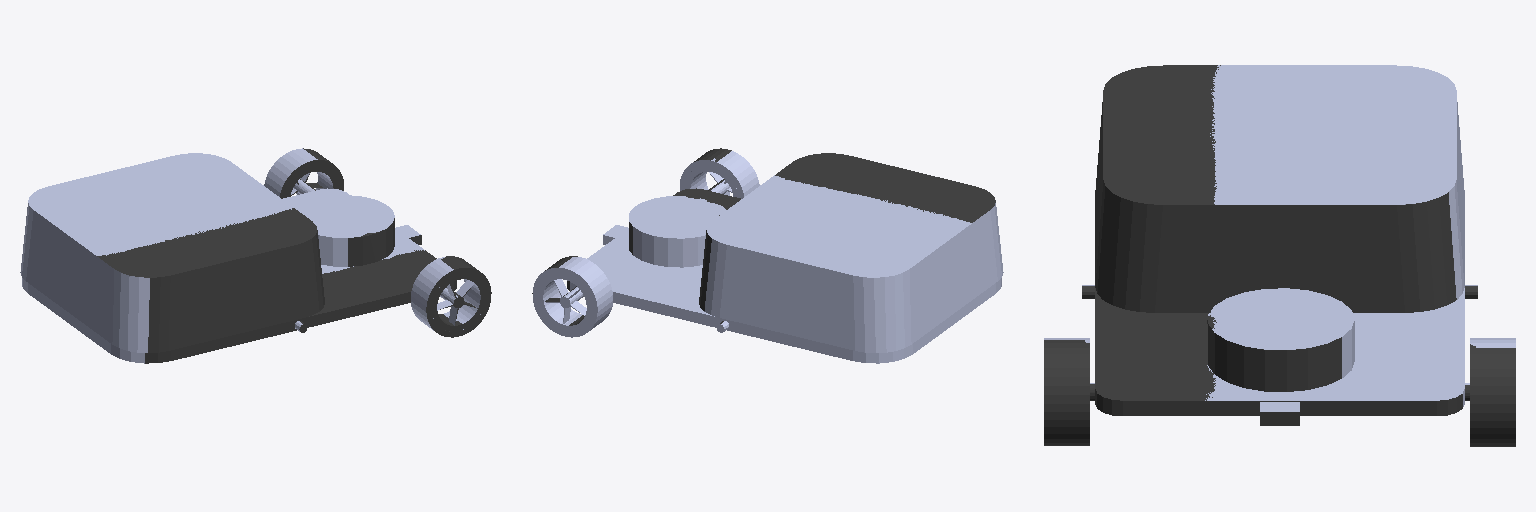
robot.urdf — bot:
<?xml version="1.0" encoding="utf-8"?>
<!-- This URDF was automatically created by SolidWorks to URDF Exporter! Originally created by [author] ([email redacted]) 
     Commit Version: 1.6.0-4-g7f85cfe  Build Version: 1.6.7995.38578
     For more information, please see http://wiki.ros.org/sw_urdf_exporter -->
<robot
  name="bot">
  <link
    name="base_link">
    <inertial>
      <origin
        xyz="-0.0129534441471153 0.00386031482322091 0.00281025296091891"
        rpy="0 0 0" />
      <mass
        value="3.12503659272934" />
      <inertia
        ixx="0.0101767092296574"
        ixy="-8.33475054187562E-06"
        ixz="-0.000407885130932817"
        iyy="0.0140735406214751"
        iyz="-1.47424116291273E-06"
        izz="0.022527596148681" />
    </inertial>
    <visual>
      <origin
        xyz="0 0 0"
        rpy="0 0 0" />
      <geometry>
        <mesh
          filename="package://bot/meshes/base_link.STL" />
      </geometry>
      <material
        name="">
        <color
          rgba="0.792156862745098 0.819607843137255 0.933333333333333 1" />
      </material>
    </visual>
    <collision>
      <origin
        xyz="0 0 0"
        rpy="0 0 0" />
      <geometry>
        <mesh
          filename="package://bot/meshes/base_link.STL" />
      </geometry>
    </collision>
  </link>
  <link
    name="leftwheel">
    <inertial>
      <origin
        xyz="0 -1.70696790036118E-15 0.24671810745511"
        rpy="0 0 0" />
      <mass
        value="0.0154842443751589" />
      <inertia
        ixx="6.32949606004192E-06"
        ixy="8.10077589427415E-22"
        ixz="-7.87430346782971E-23"
        iyy="6.32949606004192E-06"
        iyz="-3.06007808548658E-20"
        izz="1.06002362306982E-05" />
    </inertial>
    <visual>
      <origin
        xyz="0 0 0"
        rpy="0 0 0" />
      <geometry>
        <mesh
          filename="package://bot/meshes/leftwheel.STL" />
      </geometry>
      <material
        name="">
        <color
          rgba="0.294117647058824 0.294117647058824 0.294117647058824 1" />
      </material>
    </visual>
    <collision>
      <origin
        xyz="0 0 0"
        rpy="0 0 0" />
      <geometry>
        <mesh
          filename="package://bot/meshes/leftwheel.STL" />
      </geometry>
    </collision>
  </link>
  <joint
    name="leftwheel"
    type="continuous">
    <origin
      xyz="0.1589 -0.12577 -0.023525"
      rpy="-1.5708 0 0" />
    <parent
      link="base_link" />
    <child
      link="leftwheel" />
    <axis
      xyz="0 0 -1" />
    <limit
      effort="10"
      velocity="10" />
    <dynamics
      damping="0.1"
      friction="0.1" />
  </joint>
  <link
    name="rightwheel">
    <inertial>
      <origin
        xyz="0 -8.32667268468867E-17 0.0124818923568899"
        rpy="0 0 0" />
      <mass
        value="0.0154842443751589" />
      <inertia
        ixx="6.32949606004192E-06"
        ixy="1.32932317490107E-21"
        ixz="1.29112806876612E-21"
        iyy="6.32949606004192E-06"
        iyz="-3.02092707441476E-20"
        izz="1.06002362306982E-05" />
    </inertial>
    <visual>
      <origin
        xyz="0 0 0"
        rpy="0 0 0" />
      <geometry>
        <mesh
          filename="package://bot/meshes/rightwheel.STL" />
      </geometry>
      <material
        name="">
        <color
          rgba="0.294117647058824 0.294117647058824 0.294117647058824 1" />
      </material>
    </visual>
    <collision>
      <origin
        xyz="0 0 0"
        rpy="0 0 0" />
      <geometry>
        <mesh
          filename="package://bot/meshes/rightwheel.STL" />
      </geometry>
    </collision>
  </link>
  <joint
    name="rightwheel"
    type="continuous">
    <origin
      xyz="0.1589 -0.12577 -0.023525"
      rpy="-1.5708 0 0" />
    <parent
      link="base_link" />
    <child
      link="rightwheel" />
    <axis
      xyz="0 0 -1" />
    <limit
      effort="10"
      velocity="10" />
    <dynamics
      damping="1"
      friction="1" />
  </joint>
</robot>

--- What the picture shows (computed from the rendered views, not written in the file) ---
The picture shows the robot from 3 angles, left to right: view 1: azimuth 30°, elevation 25°; view 2: azimuth 150°, elevation 25°; view 3: azimuth 270°, elevation 25°; orthographic projection.
Robot: bot — 3 links, 2 joints (2 continuous); root link base_link; default pose: every joint at zero.
Links seen in each view (by area): view 1: base_link, leftwheel; view 2: base_link, leftwheel; view 3: leftwheel, base_link.
Boxes of the visible links, left/top/right/bottom form: base_link: left=20, top=148, right=480, bottom=363; leftwheel: left=97, top=148, right=491, bottom=363; base_link: left=533, top=151, right=1003, bottom=363; leftwheel: left=532, top=148, right=995, bottom=325; leftwheel: left=1044, top=65, right=1515, bottom=446; base_link: left=1044, top=65, right=1515, bottom=411.
Bounding box of the posed robot: 0.3175 × 0.2592 × 0.1062 m (x, y, z).
2 mesh visuals loaded from 3 distinct referenced files (2 binary STL); not drawn: 1 (reference not matched to a file when rendering).